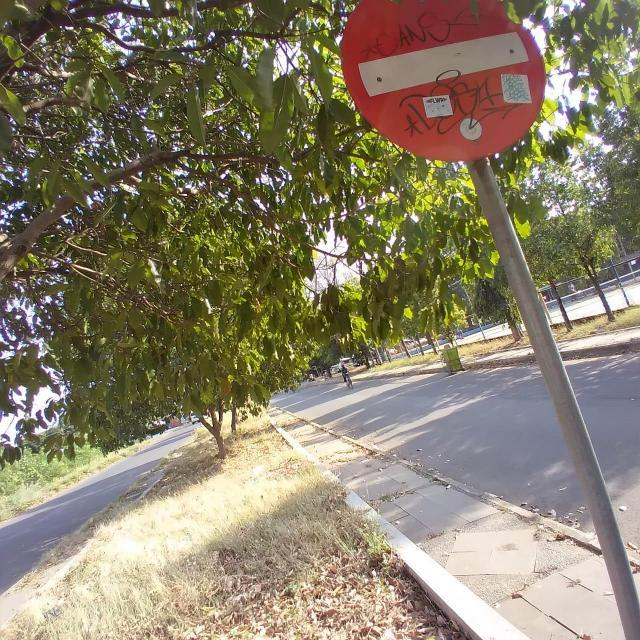traffic sign: (339, 1, 542, 160)
